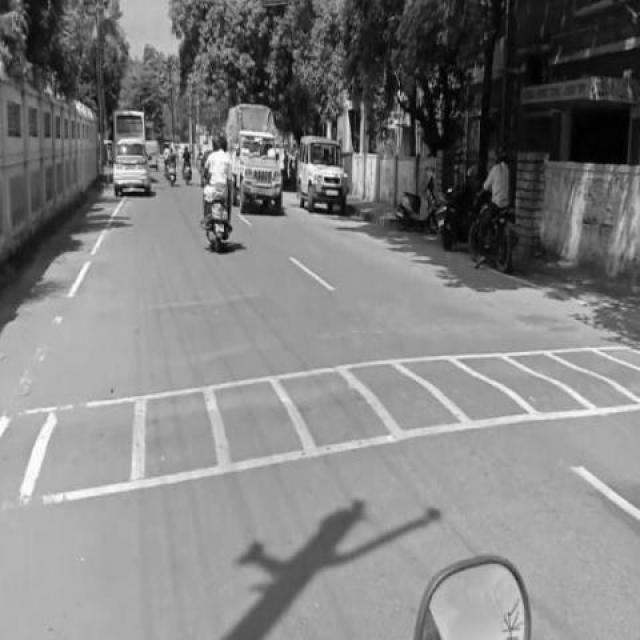Speed Bump: (0, 340, 639, 512)
